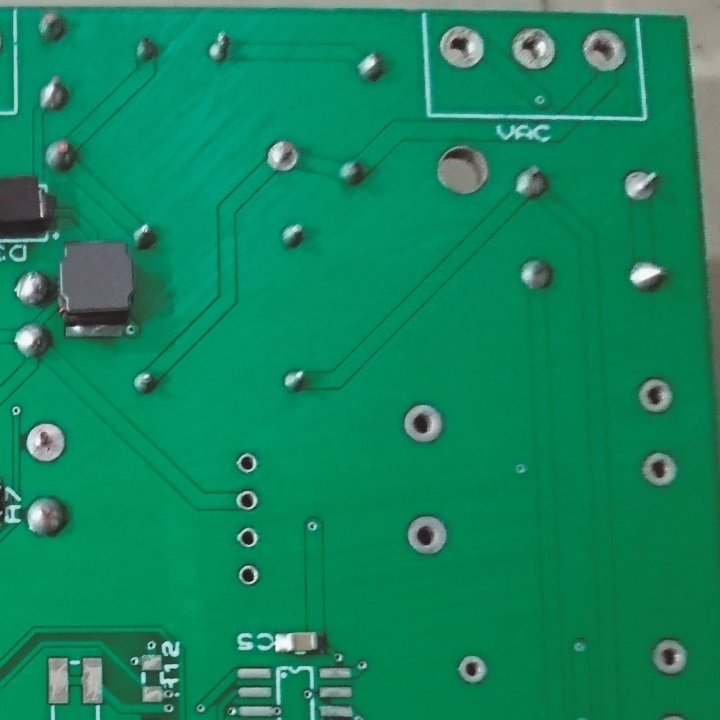F: (403, 509, 451, 566), (434, 22, 487, 71), (579, 27, 630, 75), (20, 420, 72, 466), (507, 25, 557, 70), (401, 403, 446, 446), (622, 166, 661, 211), (650, 634, 689, 678), (639, 450, 678, 490), (638, 379, 676, 418), (264, 135, 301, 175), (455, 649, 493, 686), (233, 563, 260, 590), (237, 489, 262, 516), (233, 451, 261, 475), (238, 529, 263, 551)
